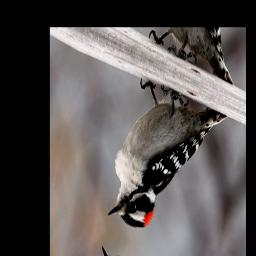Woodpecker: (104, 67, 227, 256)
